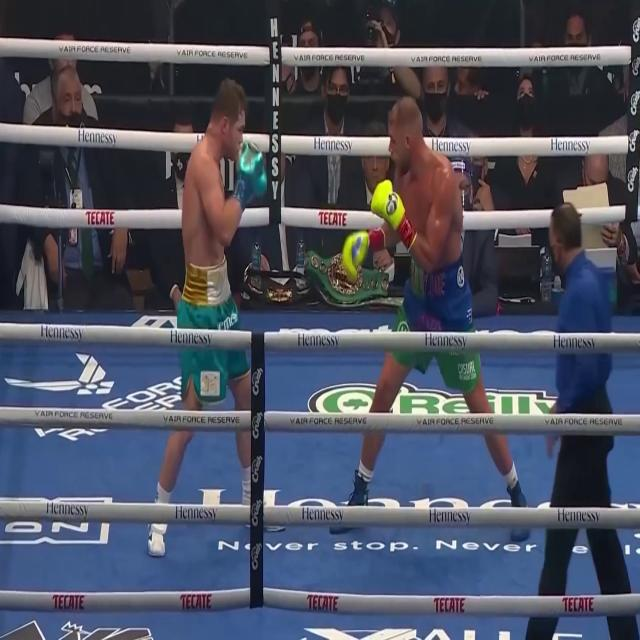boxer_1: (389, 95, 463, 272)
boxer_2: (182, 77, 247, 267)
gloves_1: (343, 226, 385, 282), (371, 178, 406, 228)
gloves_2: (234, 141, 267, 208)
